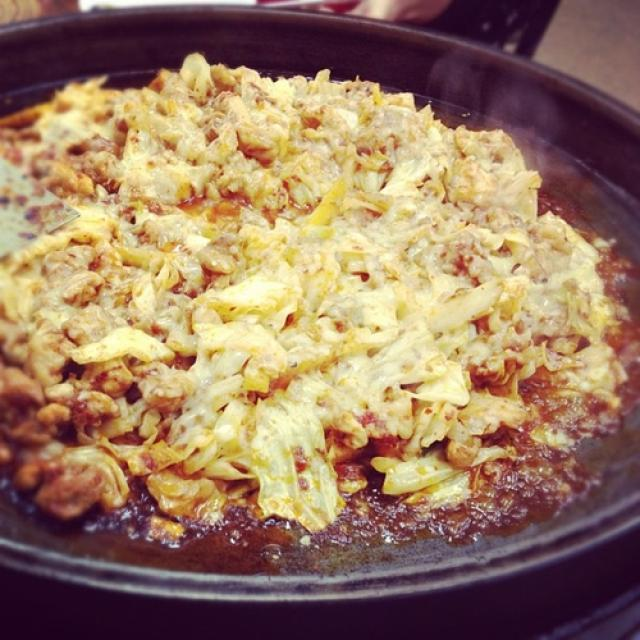鸡肉料理 含炸鸡: (8, 23, 616, 589)
